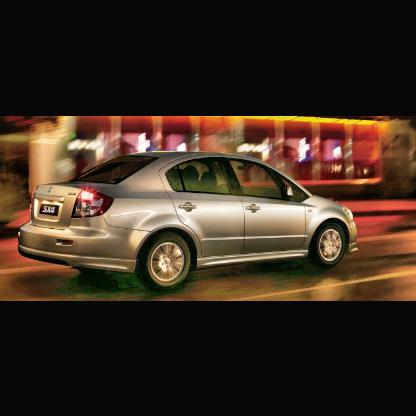Suzuki SX4 Sedan 2012: (18, 149, 363, 287)
